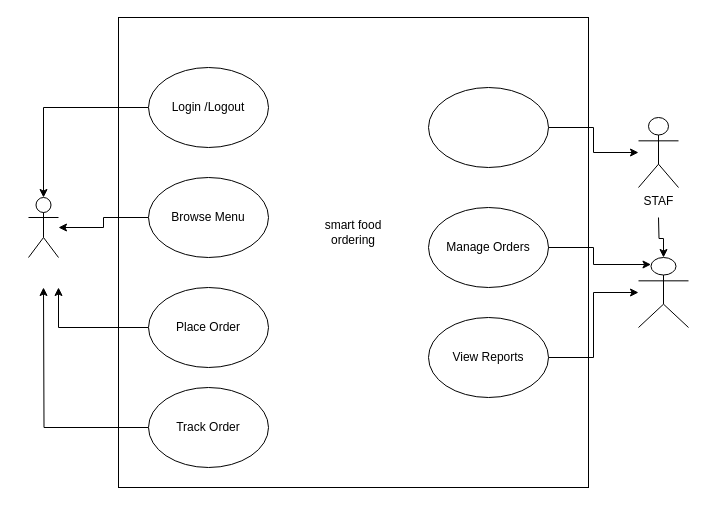
The diagram is 706 pixels wide and 505 high, and some of its shapes have lost their labels. The centre of each missing label's shape, as x and y in pixels:
"Admin" belongs at point (663, 292).
"Customar" belongs at point (43, 227).
"Update Order Status" belongs at point (488, 127).
